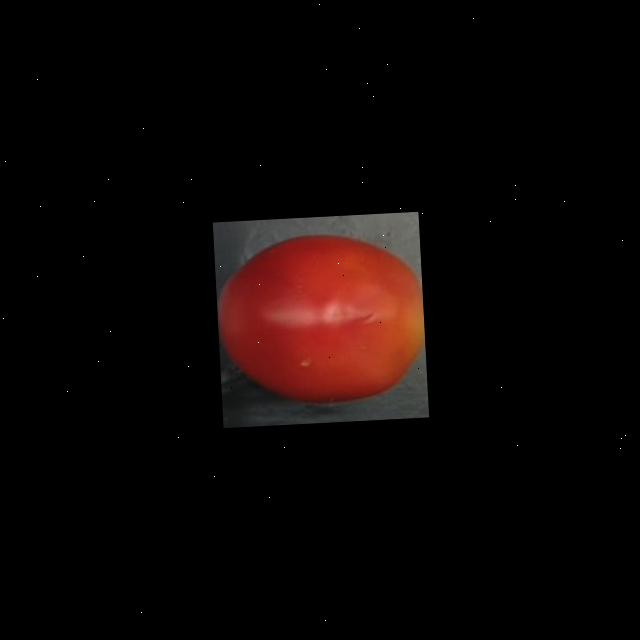tomato: (212, 224, 428, 413)
